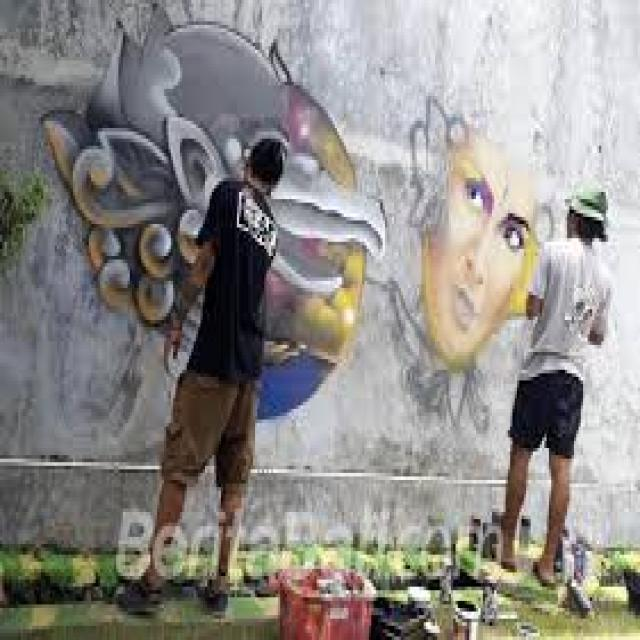-: (44, 2, 382, 423), (391, 94, 558, 436)
